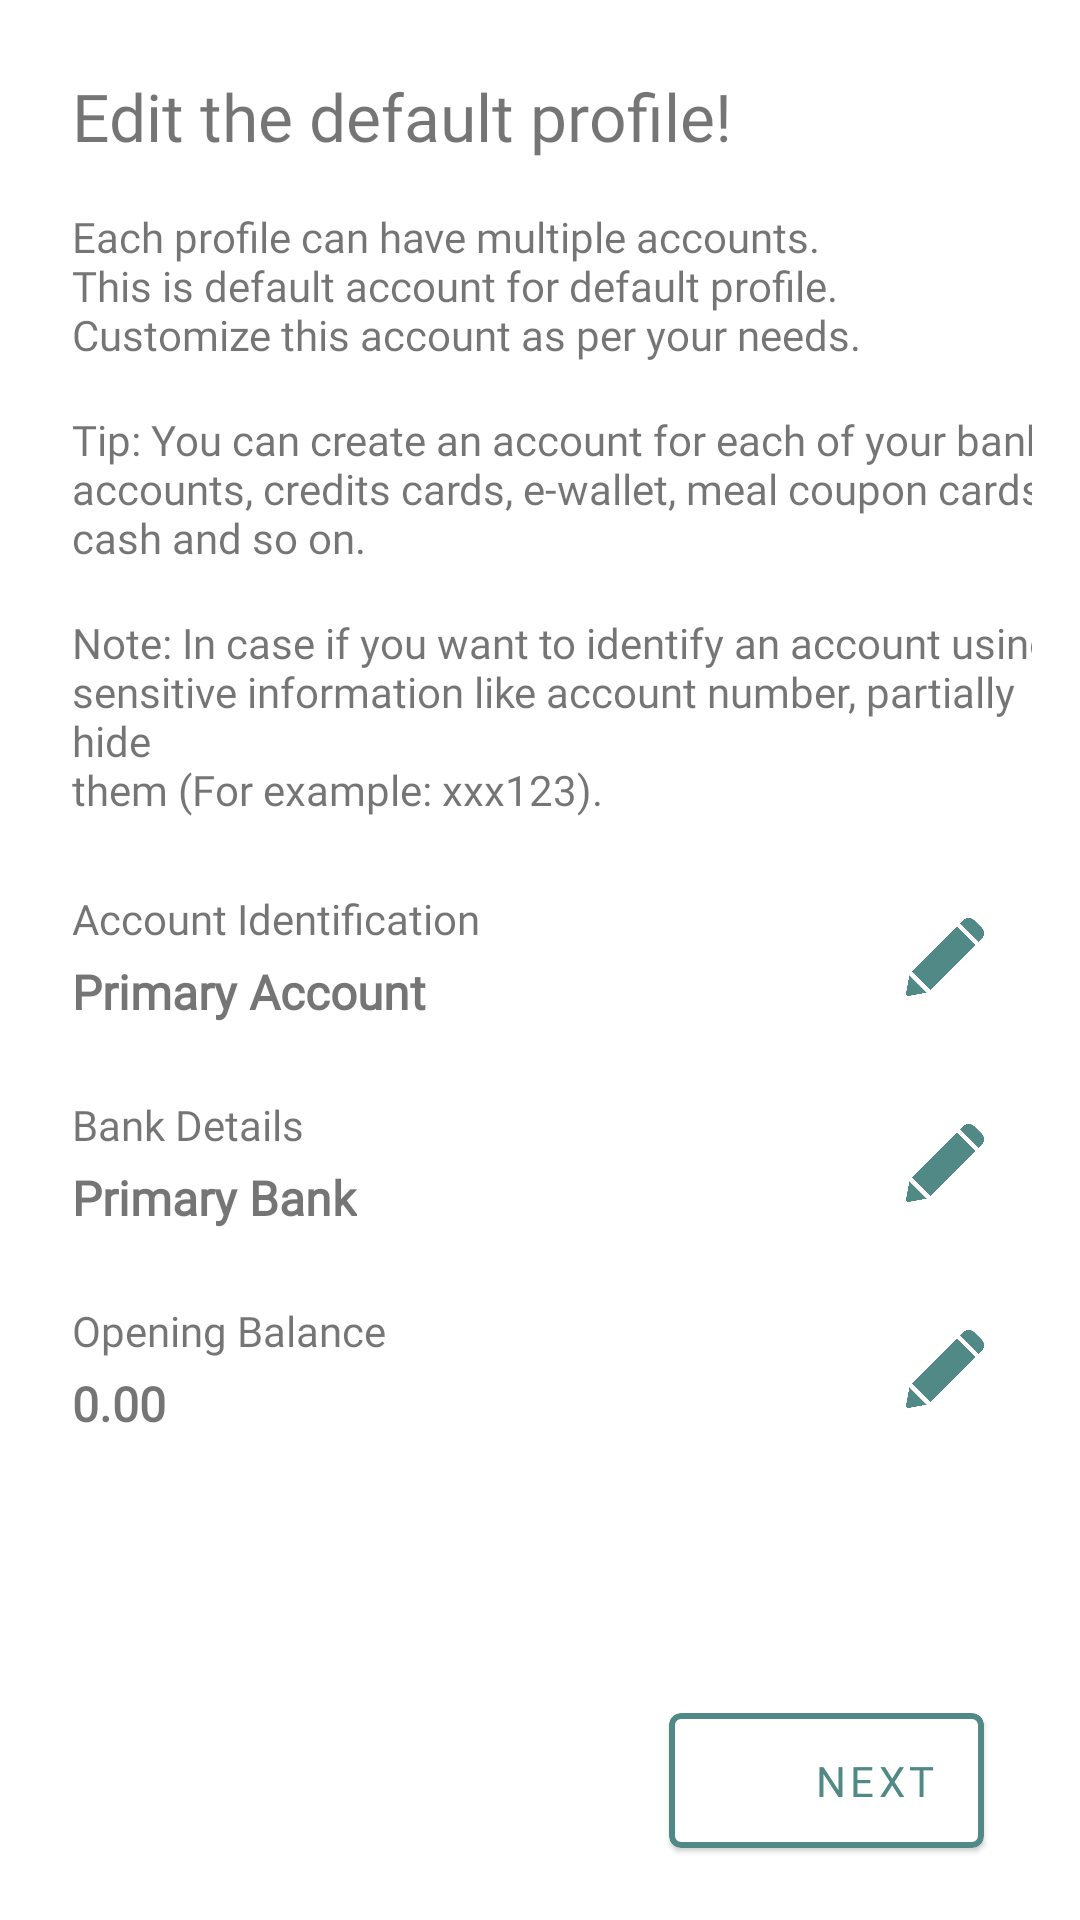

Named icons in this screenshot (1080w x 1920h) and their centers, (x,y):
pencil: (945,957), (945,1163), (945,1369)
